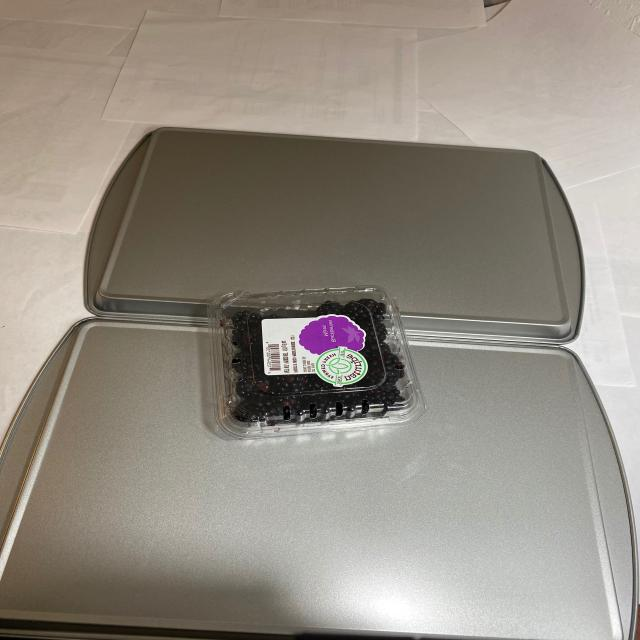blackberries: (210, 280, 416, 442)
